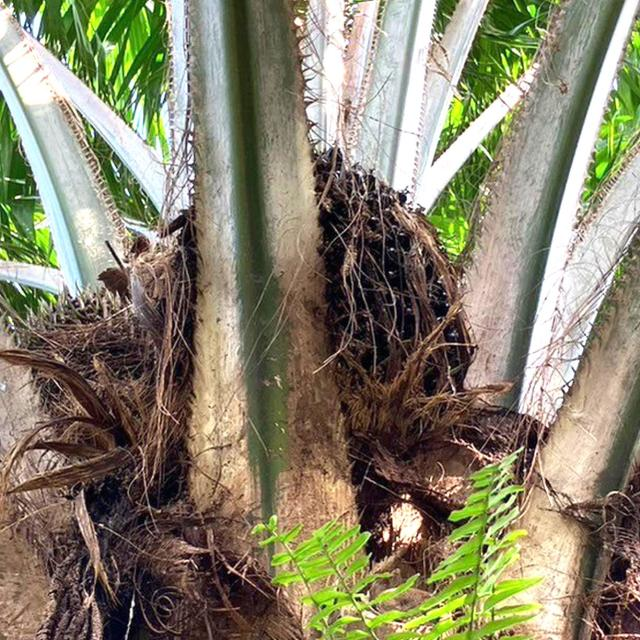unripe: (314, 146, 476, 430)
